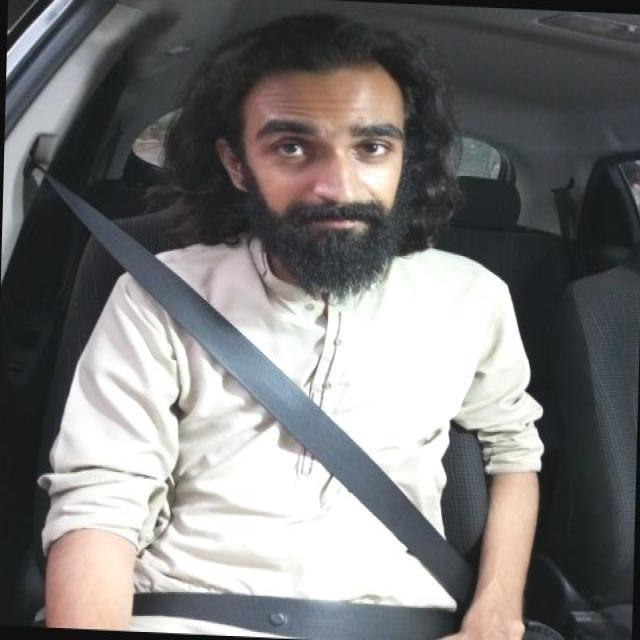seatbelt: (0, 113, 545, 639)
